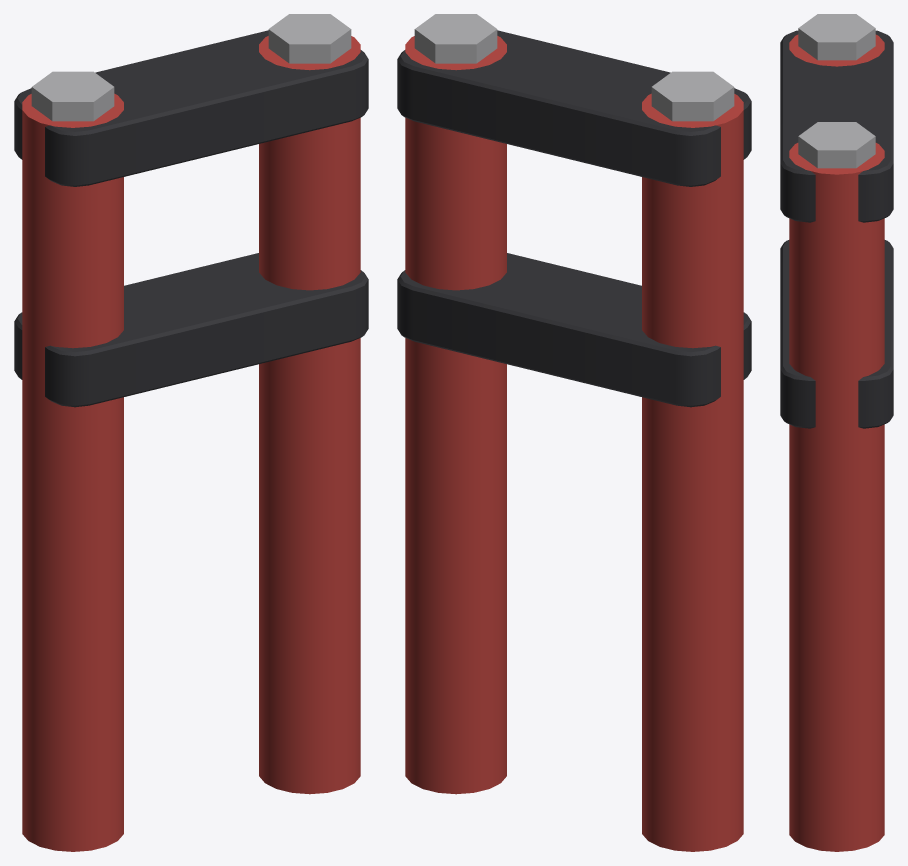
File: adv_gaiter_usd_upper.glb
3 renders of one model, left to right at view 1: azimuth 30°, elevation 25°; view 2: azimuth 150°, elevation 25°; view 3: azimuth 270°, elevation 25°, orthographic. The views are drawn at different scales.
Visible parts, largest first — view 1: lod0; view 2: lod0; view 3: lod0.
Boxes of the visible parts, x1,y1,x2,y2 form: lod0: (14,14,368,851); lod0: (397,14,751,851); lod0: (780,14,893,851).
Size of what is drawn, in the model's own units: 0.248 by 0.54 by 0.08.
